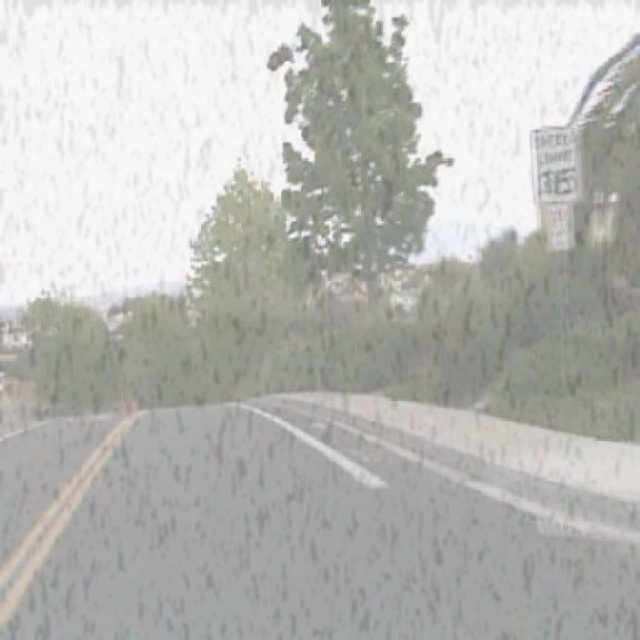speedLimit35: (530, 124, 584, 204)
